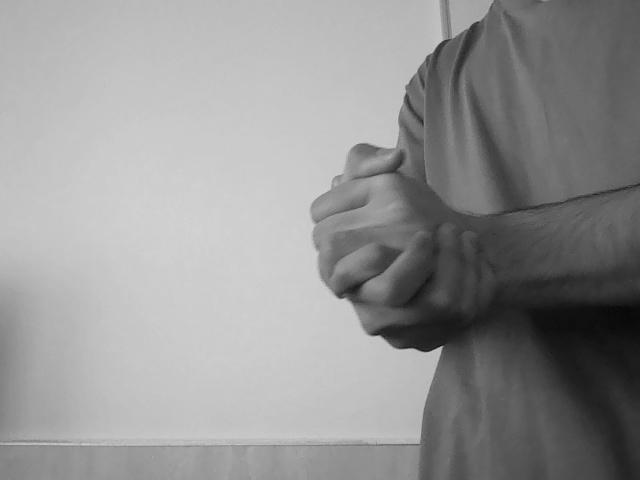friend: (299, 134, 534, 355)
